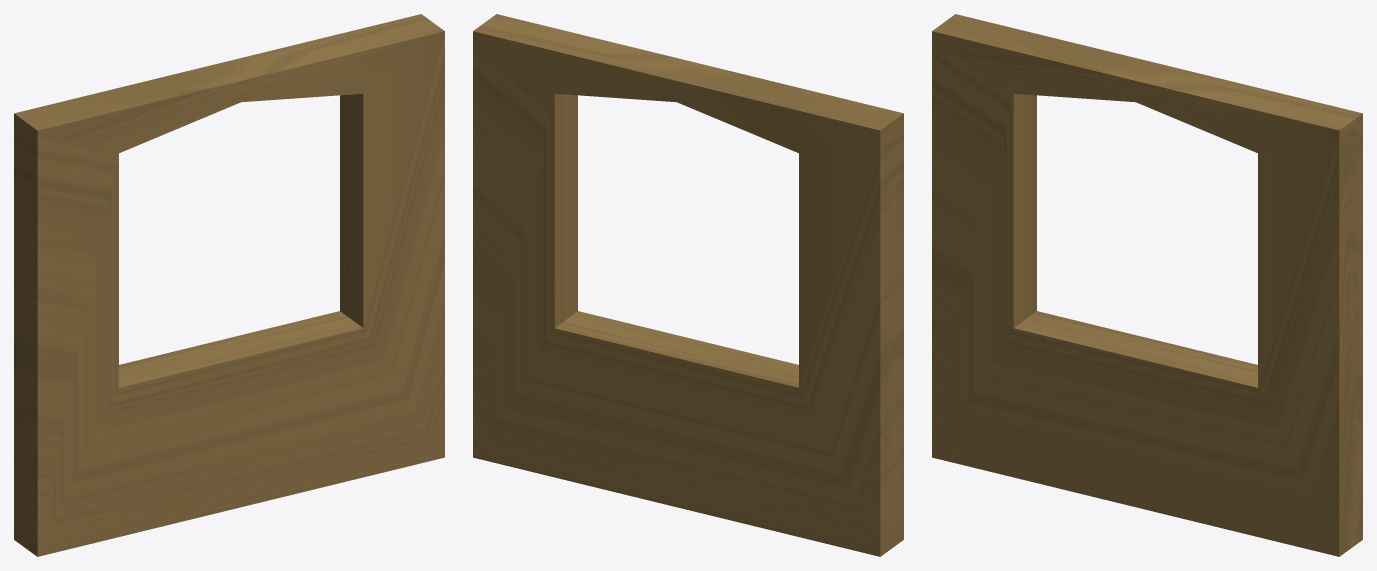
Rendered from wood_window.glb.
The picture shows the model from 3 angles, left to right: view 1: azimuth 30°, elevation 25°; view 2: azimuth 150°, elevation 25°; view 3: azimuth 330°, elevation 25°; orthographic projection.
Visible parts, largest first — view 1: Cube; view 2: Cube; view 3: Cube.
Boxes of the visible parts, x1,y1,x2,y2 form: Cube: (14, 14, 444, 556); Cube: (473, 14, 903, 556); Cube: (932, 14, 1362, 556).
Bounding box in the file's own units: 1 × 1 × 0.1.
Materials: 1 (1 with a texture image).
